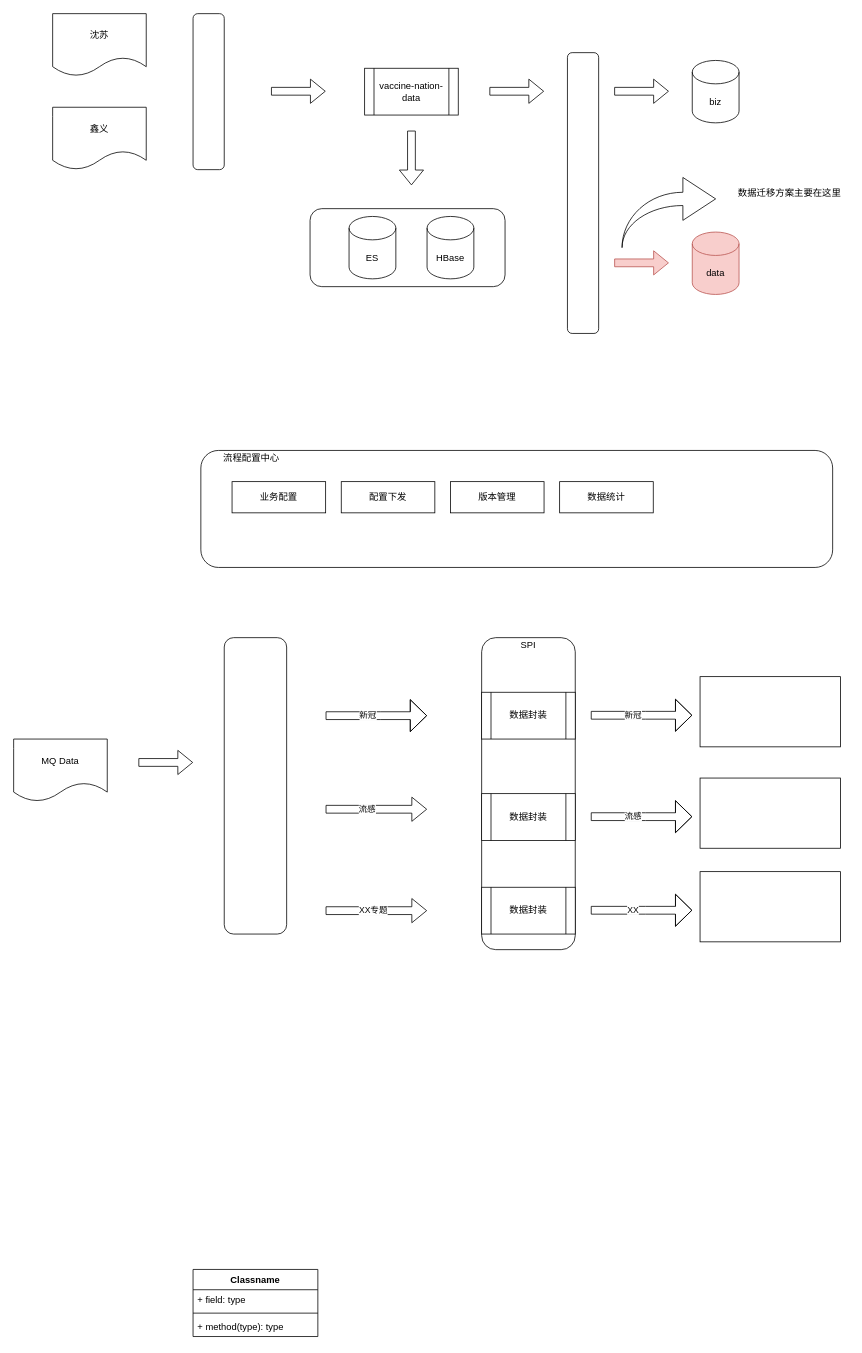
This 862x1353 diagram has some shape labels left out. The centre of each missing label's shape, as x and y in pixels:
"Dispatcher" belongs at point 255,785.
"kong" belongs at point 208,91.
"LG_case" belongs at point 769,812.
"MQ" belongs at point 583,192.
"XG_case" belongs at point 769,711.
"XX_case" belongs at point 769,906.
